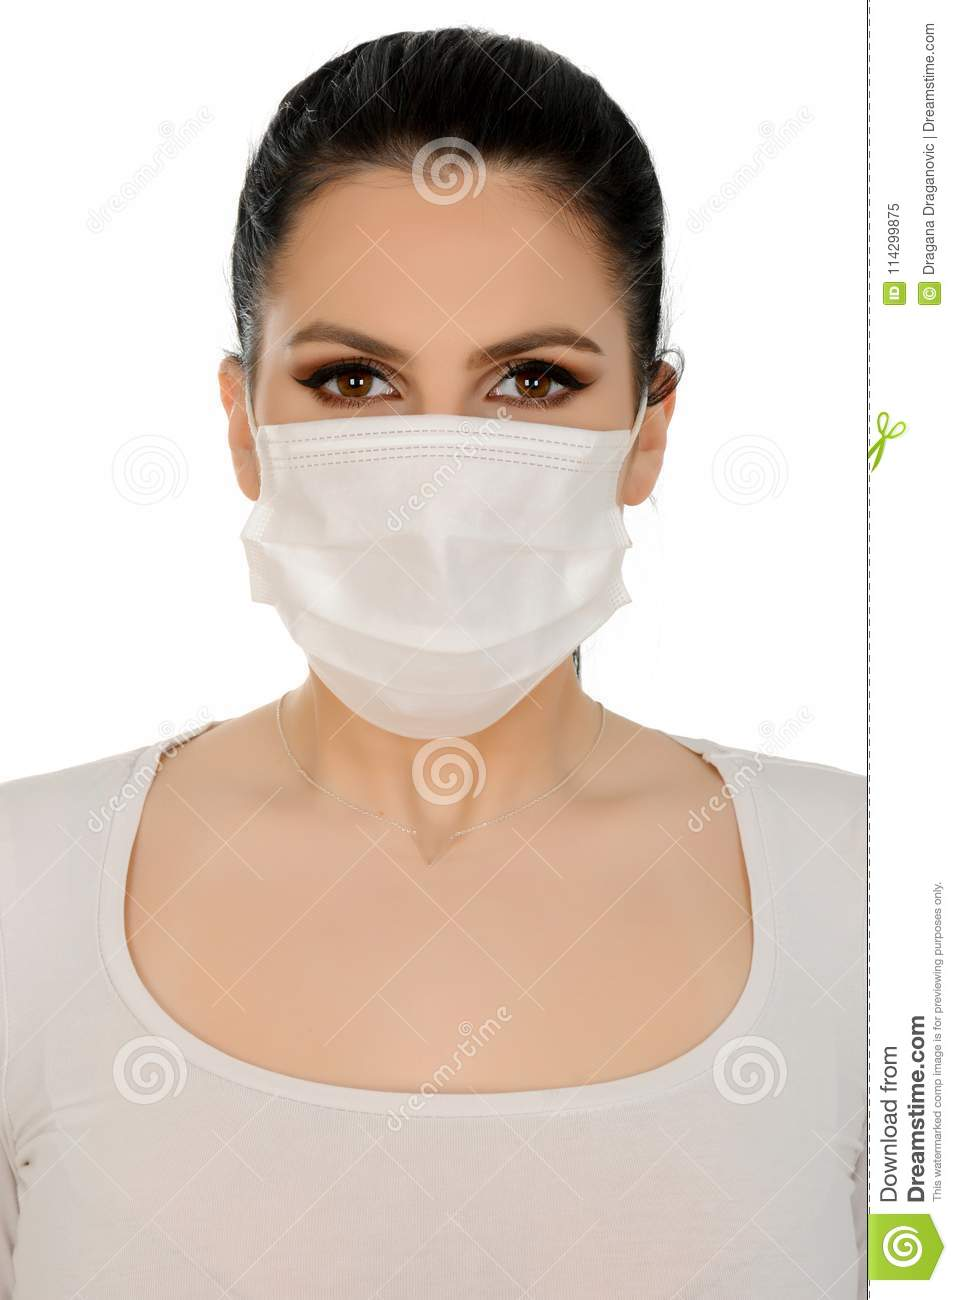mask: (254, 414, 630, 752)
